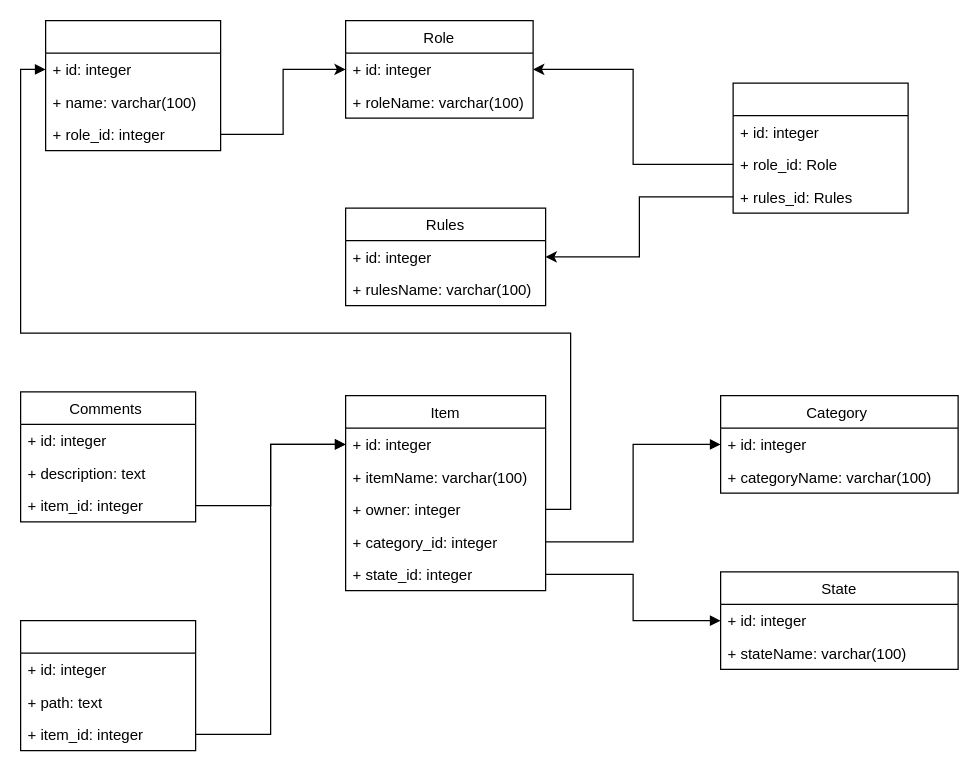
Image size: 979x771. Some labels were removed from this diagram. The shapes that lost their labels are listed below. From the top down, each one's box as (x1, y1, x2, y2) in pixels, then its label:
(44, 19, 221, 151): User
(732, 82, 908, 213): Role_Rules
(19, 619, 196, 751): Attachs
